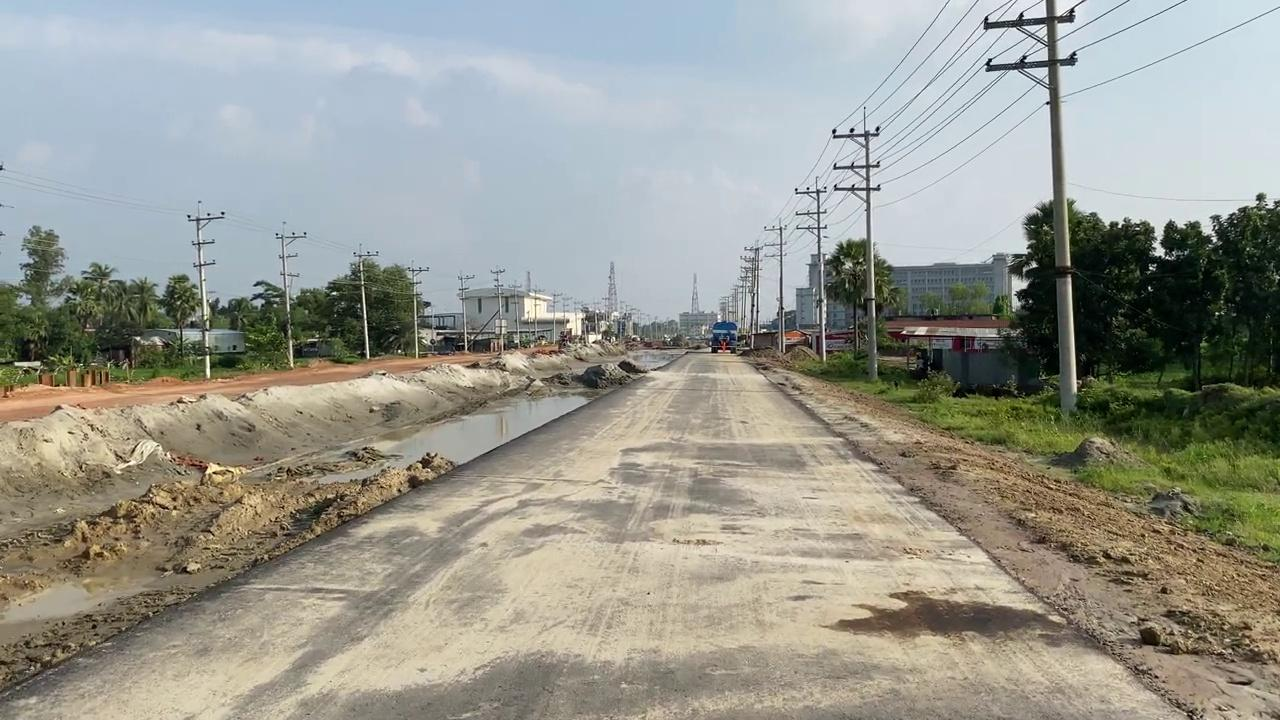Muddy road: (2, 341, 428, 716)
Pole: (1042, 18, 1073, 420), (840, 120, 887, 373), (185, 206, 221, 374), (781, 181, 813, 358), (267, 227, 297, 367)
Rickshaw: (430, 357, 1128, 702)
Sidewalk: (388, 372, 592, 464)
Traffic-sign: (808, 238, 883, 355)
Tree: (702, 318, 728, 349)
